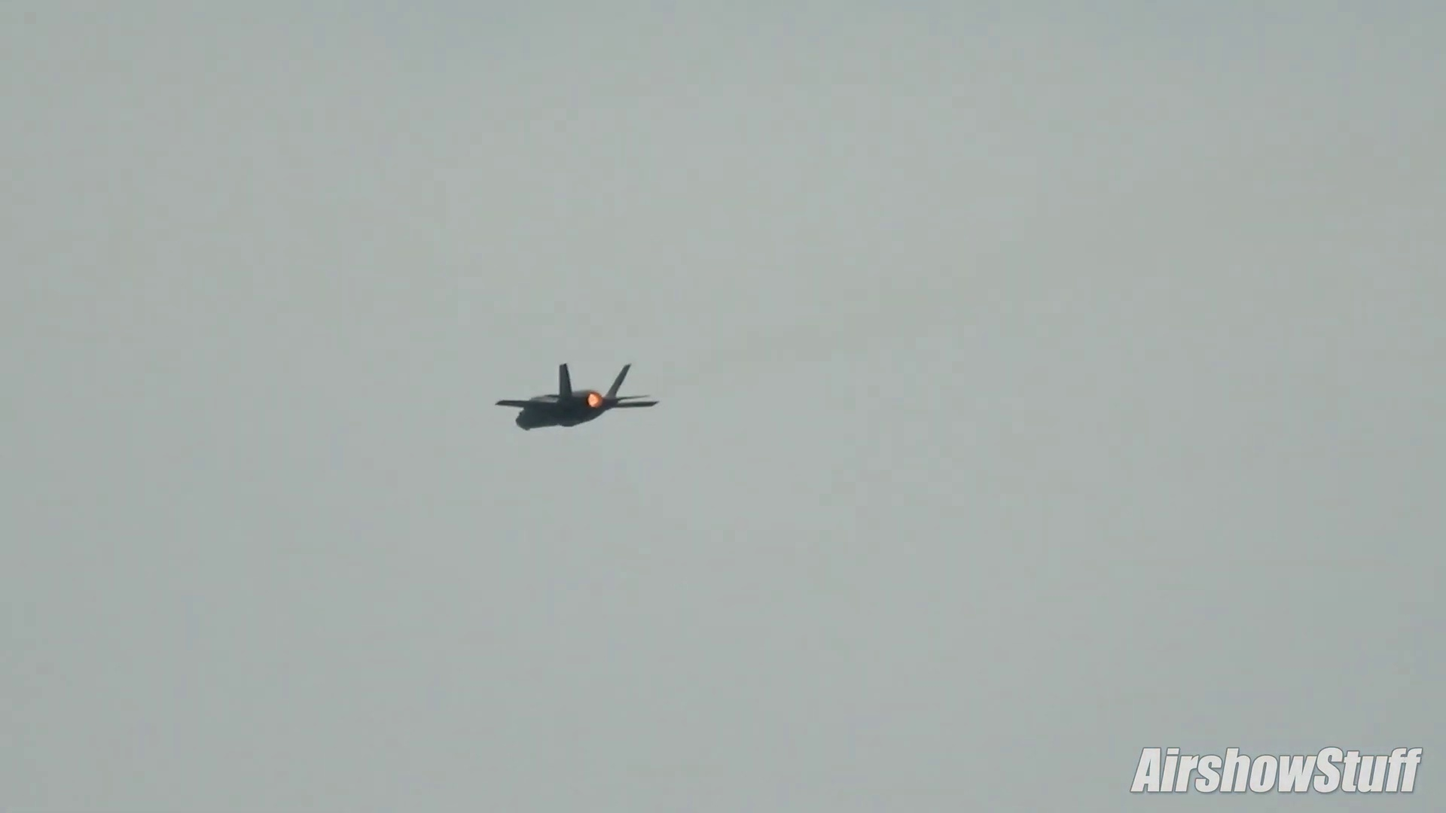F35: (490, 349, 667, 445)
